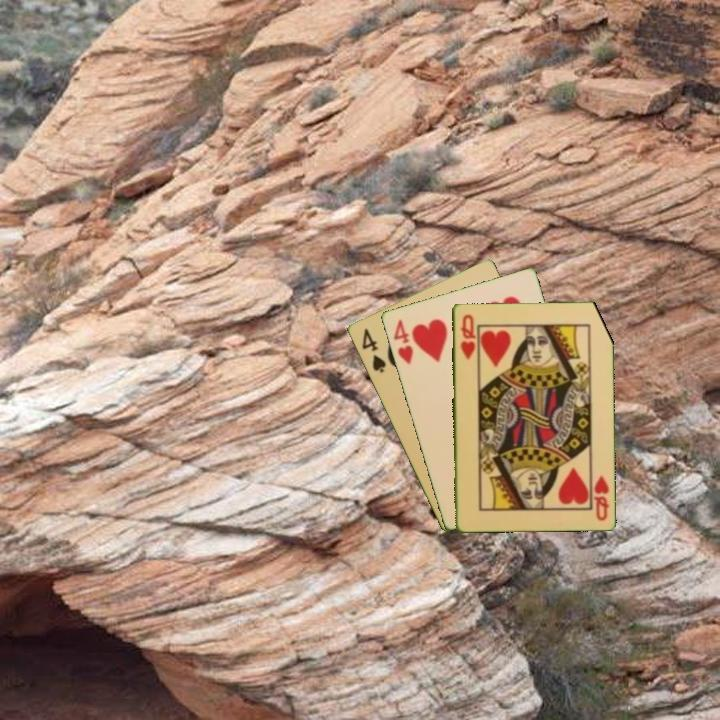4h: (390, 315, 416, 367)
4s: (358, 324, 389, 376)
Qh: (588, 468, 612, 523), (456, 311, 477, 362)
